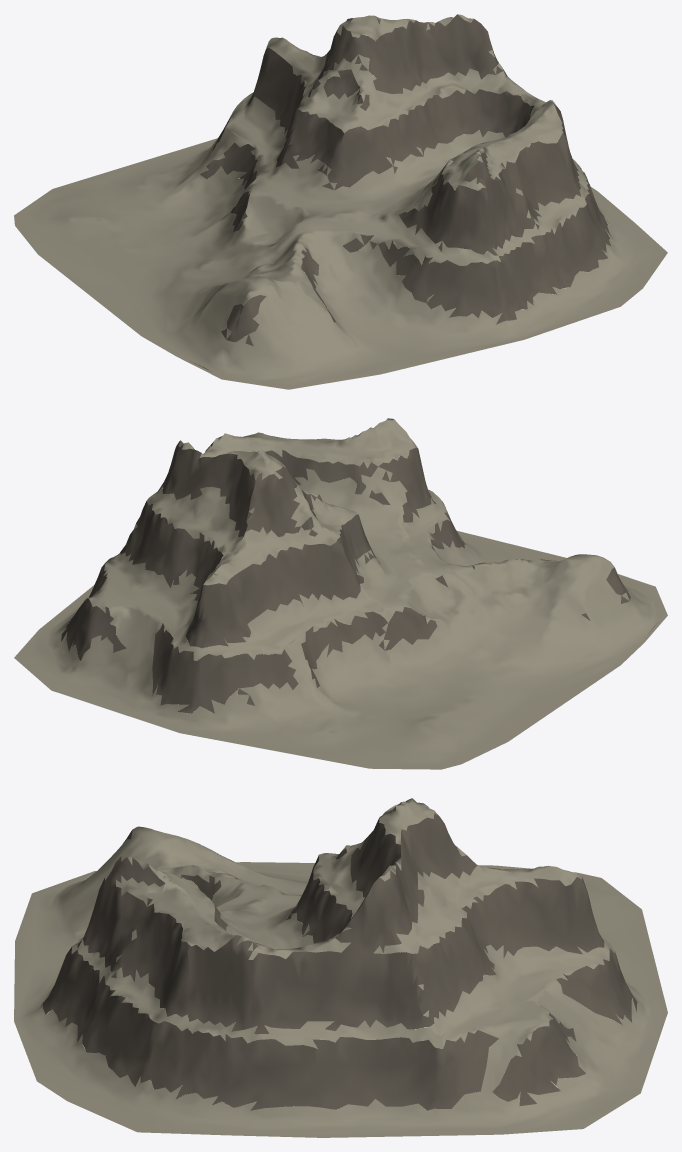
File: canyon.glb
3 views of the same model, one above another, from view 1: azimuth 30°, elevation 25°; view 2: azimuth 150°, elevation 25°; view 3: azimuth 270°, elevation 25° (orthographic). The views are drawn at different scales.
Parts seen in each view (by area): view 1: Sea Canyon 4; view 2: Sea Canyon 4; view 3: Sea Canyon 4.
Boxes of the visible parts, left/top/right/bottom form: Sea Canyon 4: left=14, top=14, right=667, bottom=389; Sea Canyon 4: left=14, top=418, right=667, bottom=769; Sea Canyon 4: left=14, top=798, right=667, bottom=1137.
Size of the model in its own units: 830 by 319 by 831.
